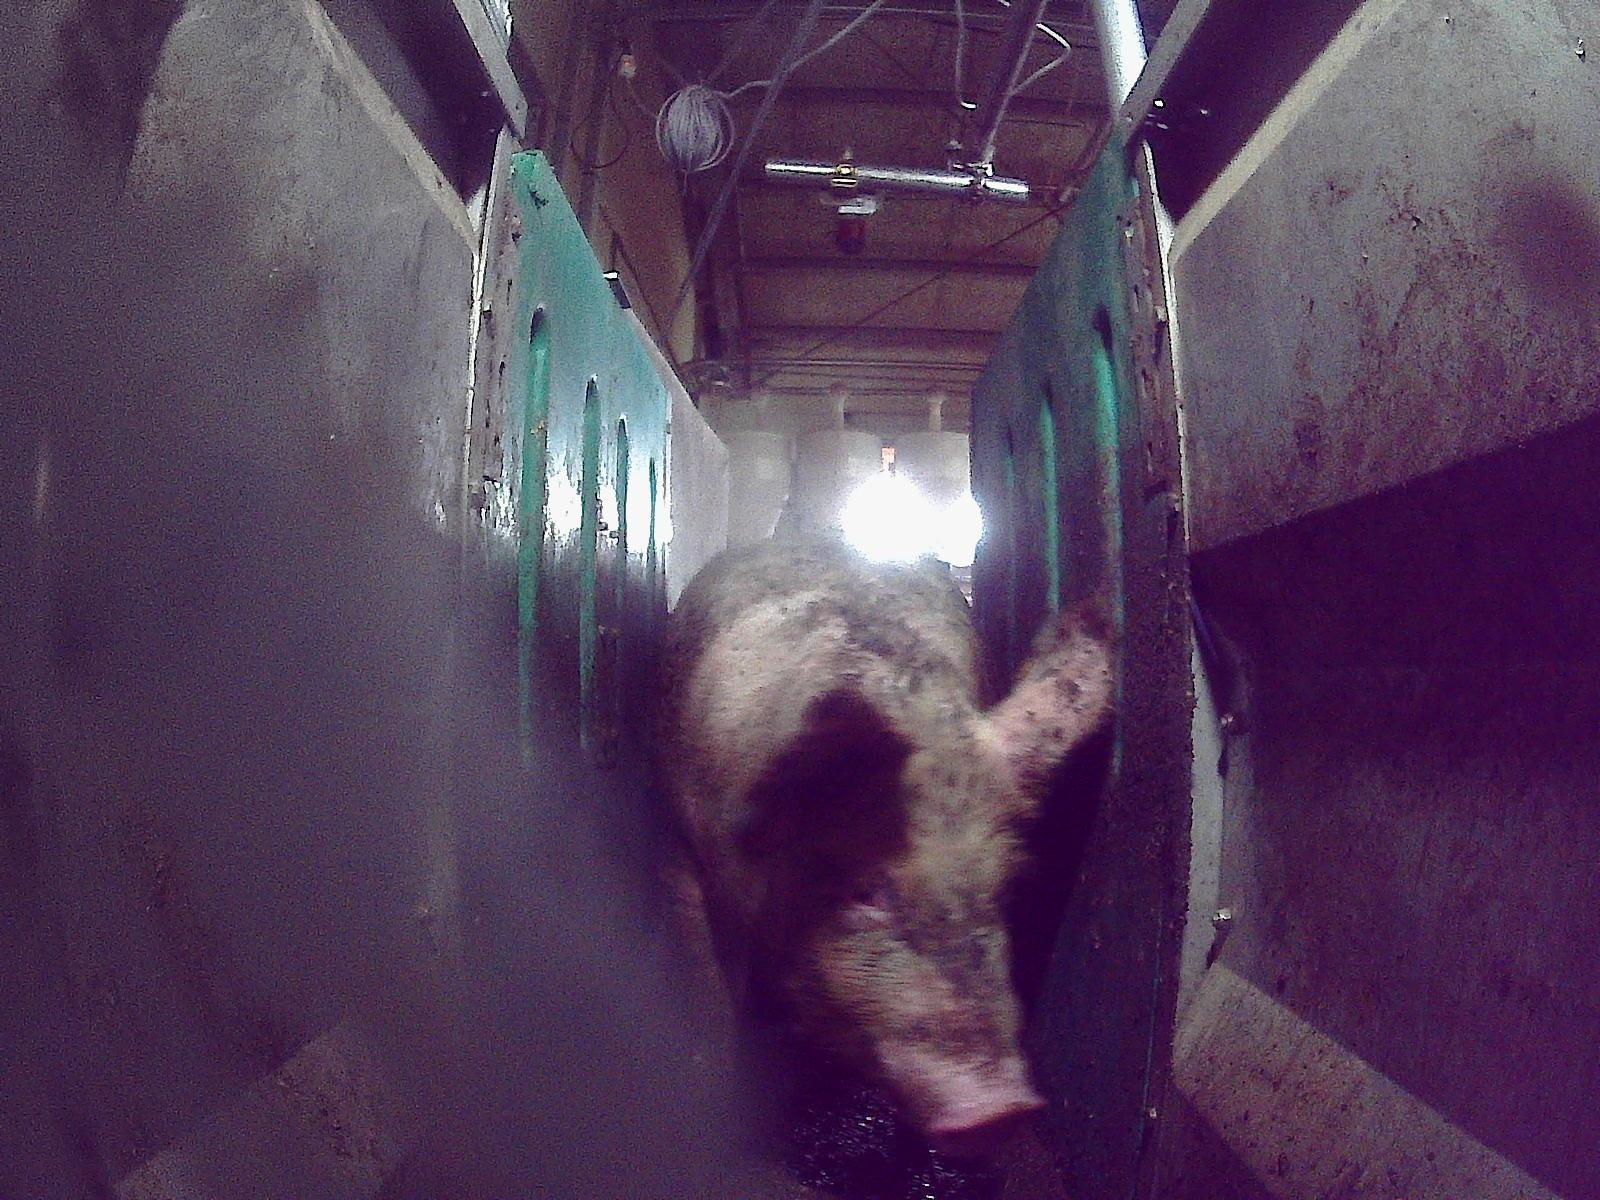Face: (768, 770, 1047, 1151)
